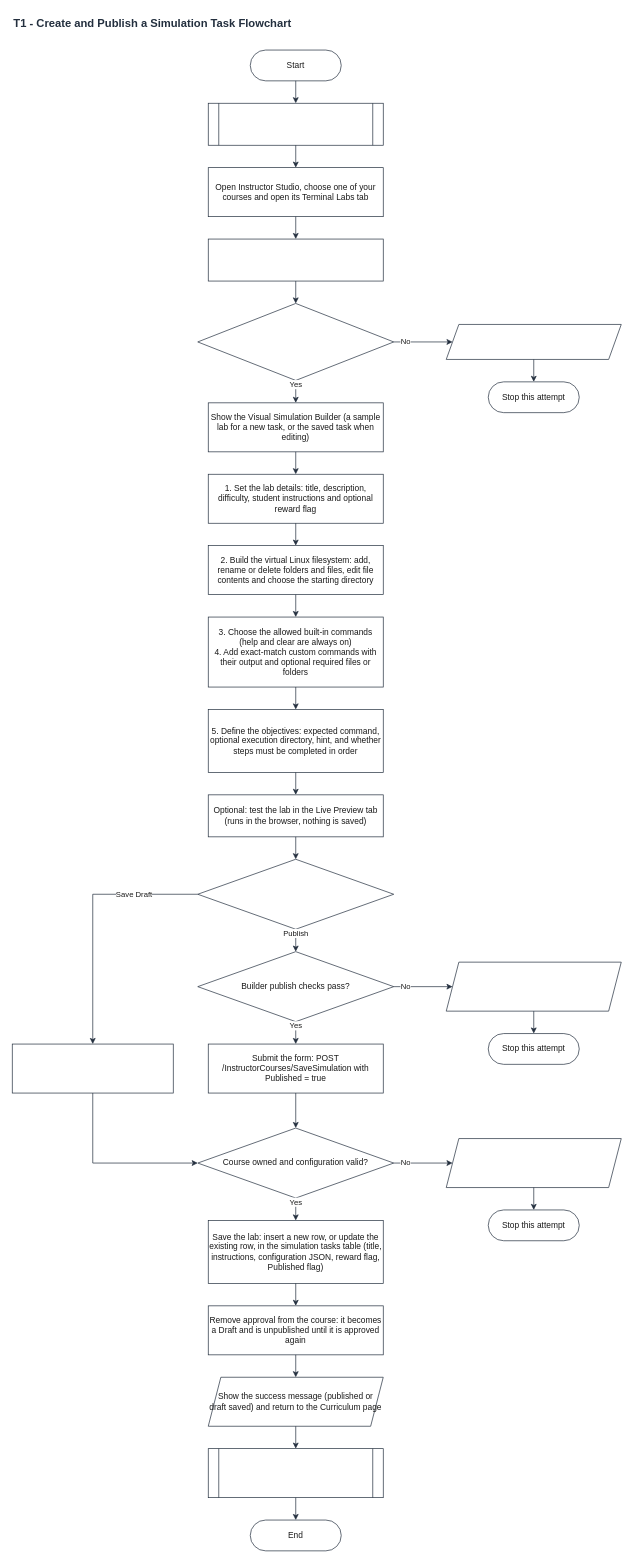
The diagram is 634 pixels wide and 1563 high, and some of its shapes have lost their labels. The shapes that lost their labels are listed below. From the top down, each one's centre as x and y in pixels, then its label:
(x=295, y=124): Sign in as an Instructor Follow (GA5) and (GA11)
(x=295, y=259): Click Add Simulation (/InstructorCourses/AddSimulation)
(x=295, y=341): Course exists and belongs to this instructor?
(x=533, y=341): Show Course not found
(x=295, y=894): Publish the lab or save it as a draft?
(x=533, y=986): Show Cannot Publish Simulation with the list of errors and stay on the form
(x=92, y=1068): Submit the form: POST /InstructorCourses/SaveSimulation with Published = false
(x=533, y=1163): Show Course not found, or return to the builder with the validation message
(x=295, y=1473): Submit the course for Admin review and publish it Follow (A9)
